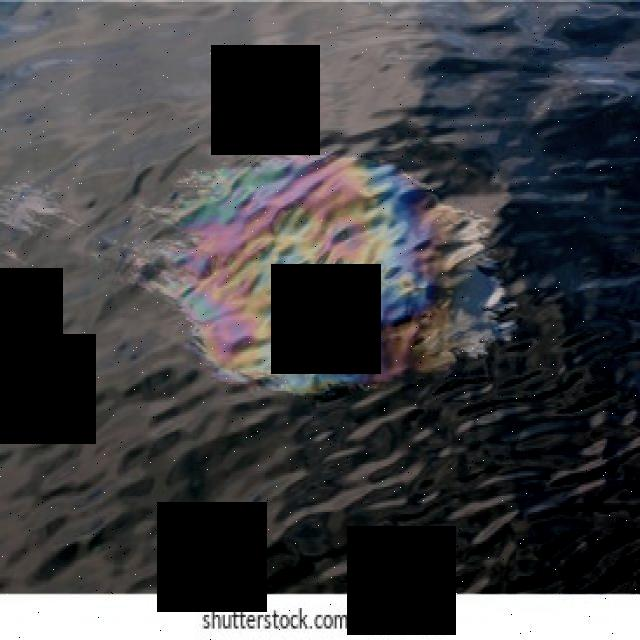oil spill: (0, 2, 640, 593), (139, 153, 510, 394)
